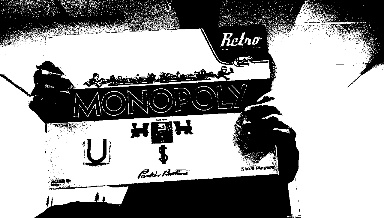U: (82, 138, 107, 162)
